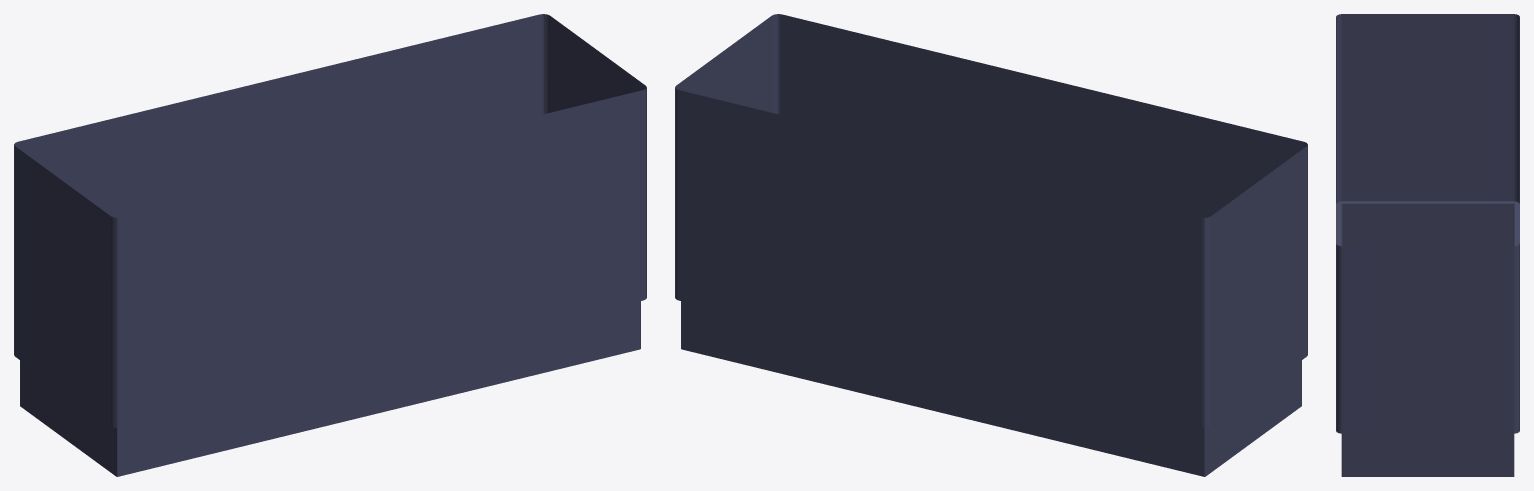
Rendered from CounterUnder.gltf.
The picture shows the model from 3 angles, left to right: view 1: azimuth 30°, elevation 25°; view 2: azimuth 150°, elevation 25°; view 3: azimuth 270°, elevation 25°; orthographic projection. The views are drawn at different scales.
Parts seen in each view (by area): view 1: Mid_section; view 2: Mid_section; view 3: Mid_section.
Part boxes in pixels (box(x1,y1,x2,y2)): Mid_section: box(14, 14, 646, 476); Mid_section: box(675, 14, 1307, 476); Mid_section: box(1336, 14, 1519, 476).
Bounding box in the file's own units: 12.03 × 5.62 × 4.02.
